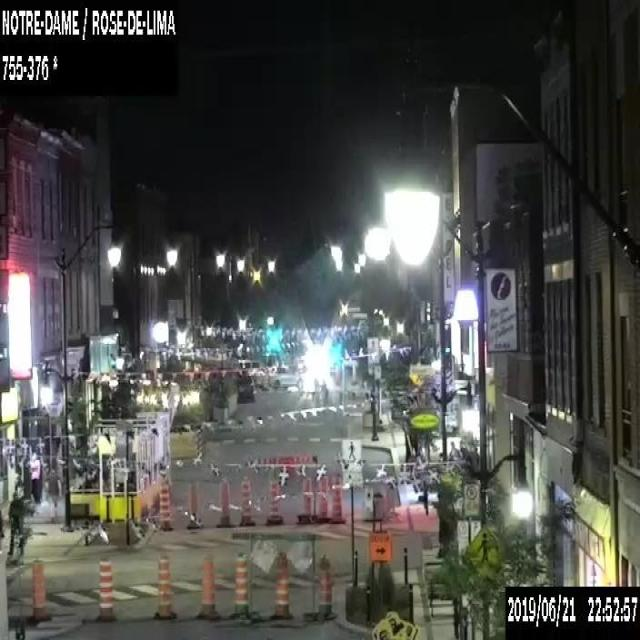construction: (368, 609, 419, 639), (158, 554, 171, 618), (30, 560, 43, 623), (234, 552, 247, 614), (99, 558, 112, 619), (318, 559, 331, 618), (275, 556, 287, 617), (202, 559, 214, 614), (370, 531, 390, 561), (219, 477, 229, 525), (160, 481, 170, 529), (240, 477, 250, 524), (188, 481, 197, 527), (268, 478, 278, 519), (332, 474, 341, 519), (302, 479, 311, 515), (318, 477, 326, 516)
pedestrian: (7, 491, 26, 557), (45, 468, 59, 519), (27, 451, 40, 503), (448, 440, 460, 458)
vehicle: (267, 364, 302, 387)
